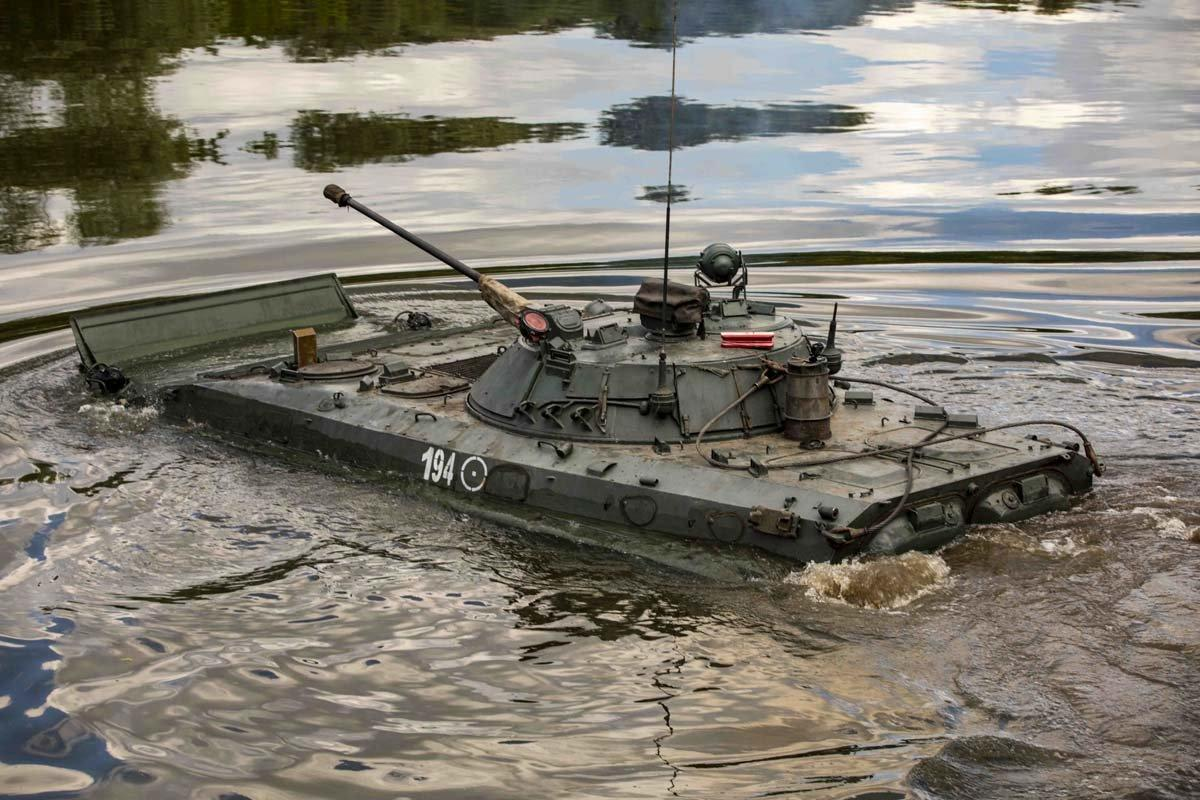tank: (68, 183, 1106, 567)
